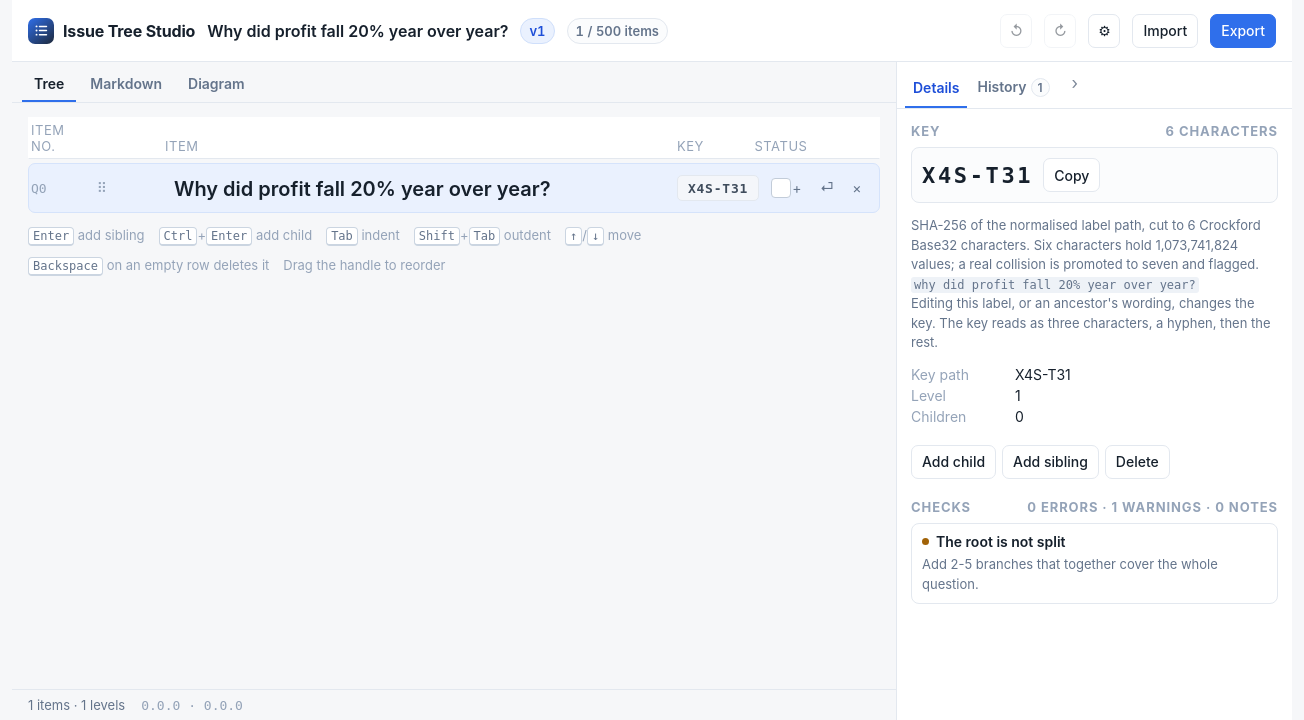
Test: the right panel › lets the workspace take the whole width where the panel is gone
Expected: the element with class "rightbar" is shown, [896, 62, 1292, 719]
Click the tab "Markdown" at (126, 85), box [78, 68, 174, 102]
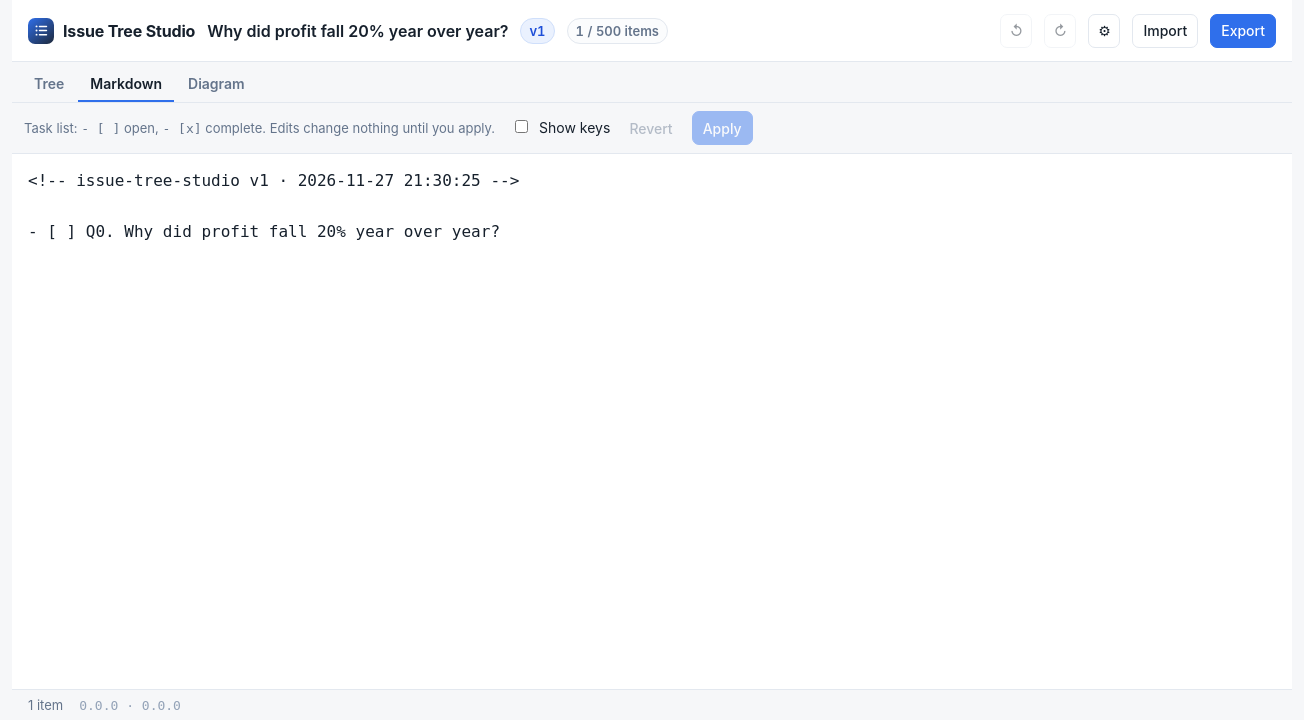
Now the element with class "body" has class "no-panel"
